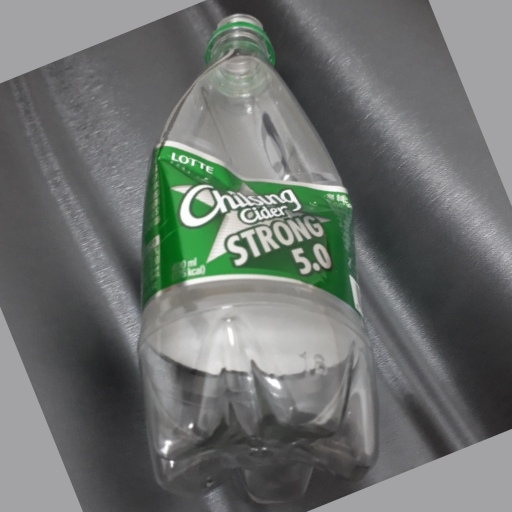Plastic_0: (134, 10, 380, 501)
